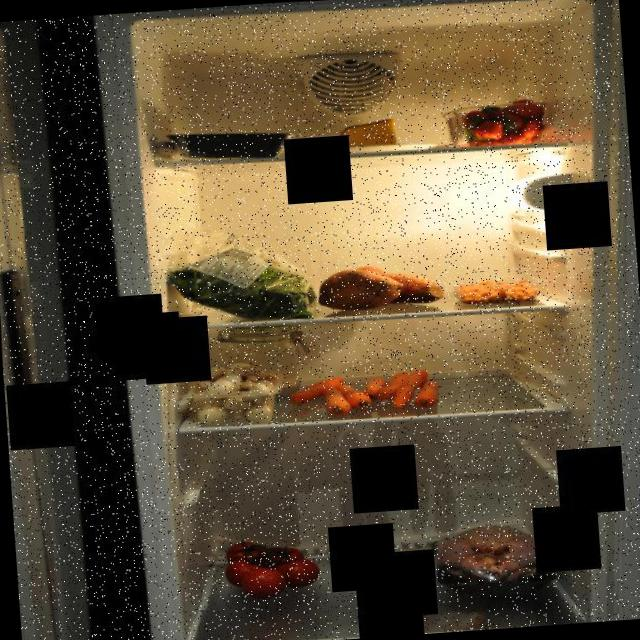Carne pollo: (420, 516, 562, 606)
Champiñones: (186, 358, 291, 427)
Gambas/Langostinos: (455, 272, 544, 306)
Queso: (336, 115, 400, 152)
Tomate: (220, 532, 324, 603)
Zanahoria: (282, 364, 444, 422)
